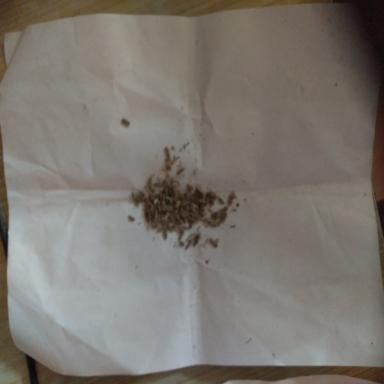pbw: (187, 233, 197, 241), (210, 239, 218, 247), (176, 168, 184, 176), (164, 146, 170, 156), (122, 118, 129, 126), (185, 241, 191, 250), (168, 204, 174, 211), (192, 203, 199, 209), (154, 208, 157, 222), (128, 215, 135, 221), (208, 193, 216, 198), (179, 232, 184, 240), (175, 200, 180, 208), (180, 201, 188, 206), (164, 226, 167, 239), (188, 216, 195, 221), (198, 199, 206, 203), (192, 208, 197, 214), (189, 212, 195, 217), (176, 213, 180, 220), (180, 206, 183, 215), (206, 218, 212, 222), (210, 221, 216, 225), (154, 198, 158, 204), (154, 182, 160, 186), (158, 205, 161, 212), (165, 188, 168, 195), (162, 200, 164, 210)
